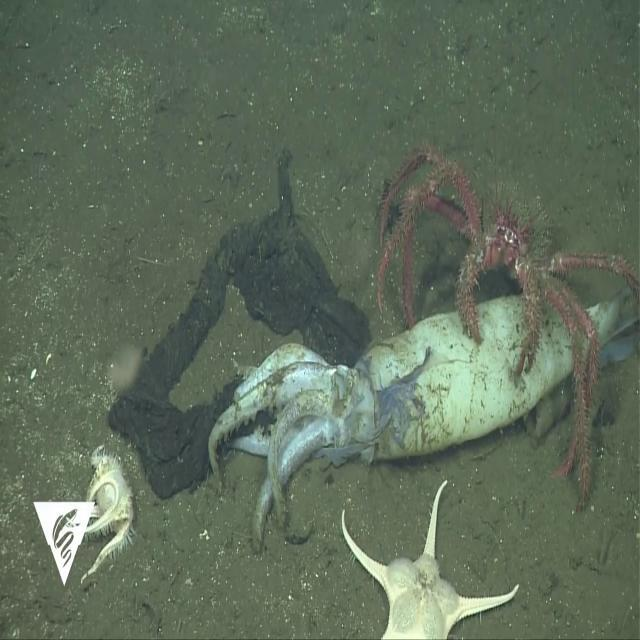squid: (206, 305, 496, 464)
